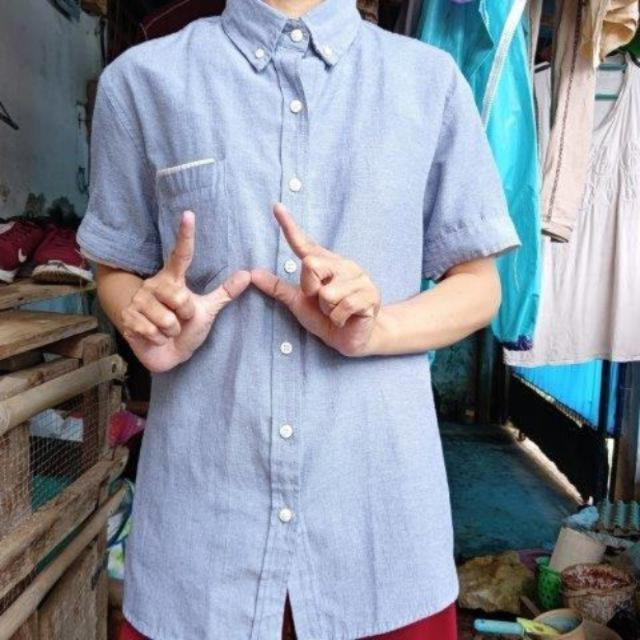W: (98, 184, 388, 394)
